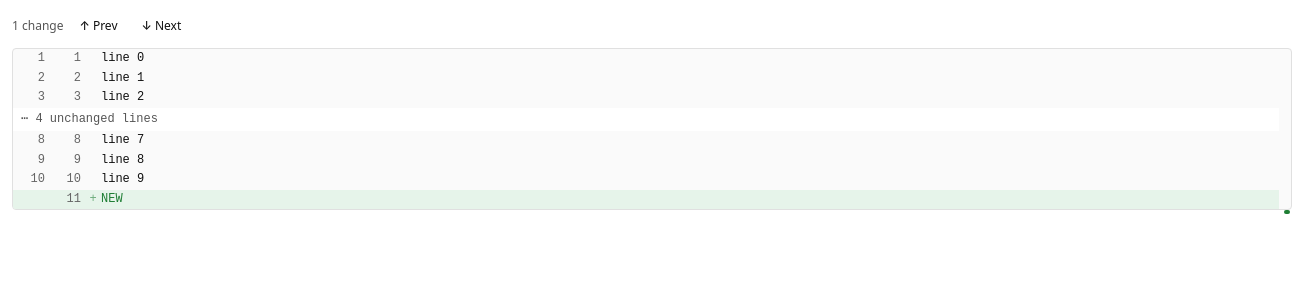
Test: JsonDiffView › folds a long unchanged run and expands it on click
Click the button "⋯ 4 unchanged lines" at (89, 118), box [13,108,1279,131]
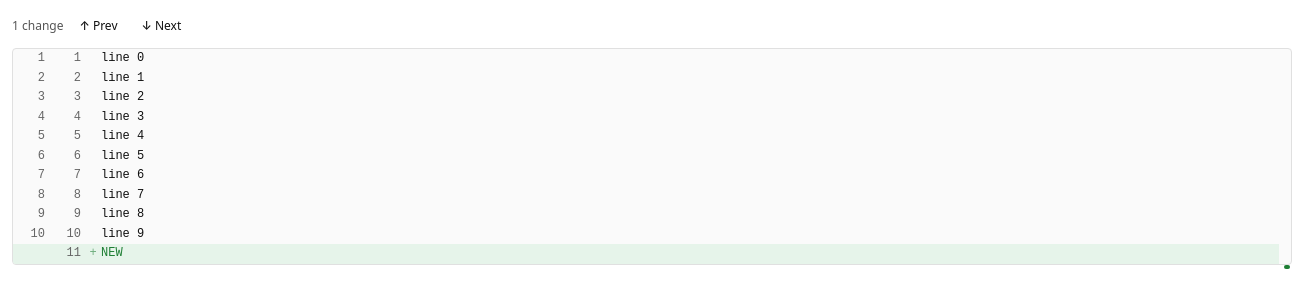
Check: the button "unchanged line" is gone
